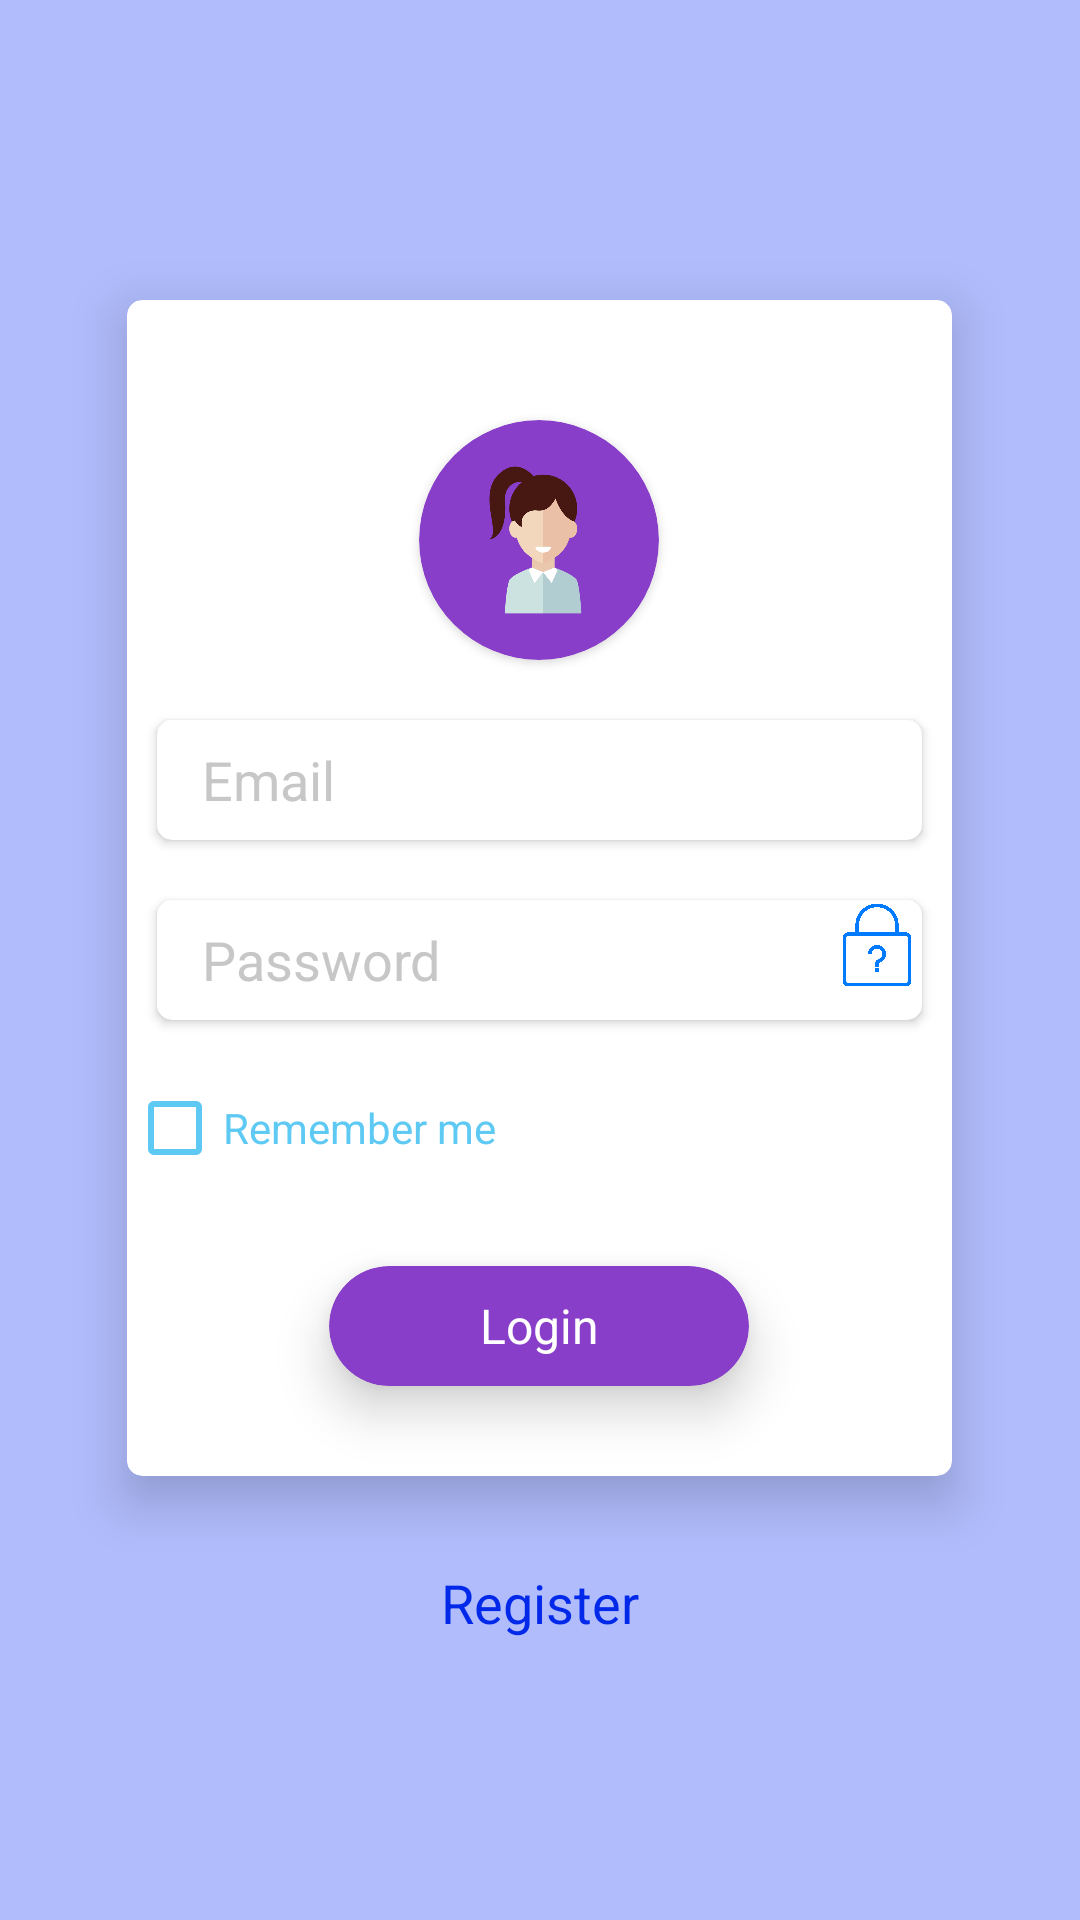

Screen size 1080w x 1920h. Icon name, then its center in pixels as (x,y):
student: (535,540)
